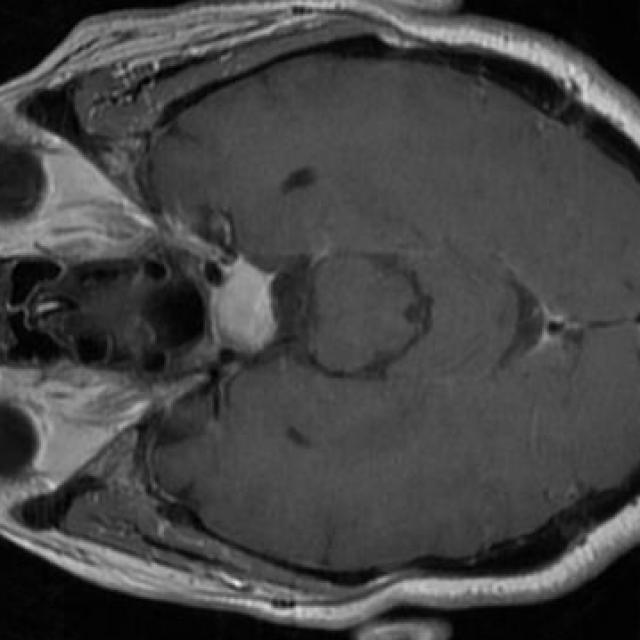pituitary: (217, 262, 273, 358)
